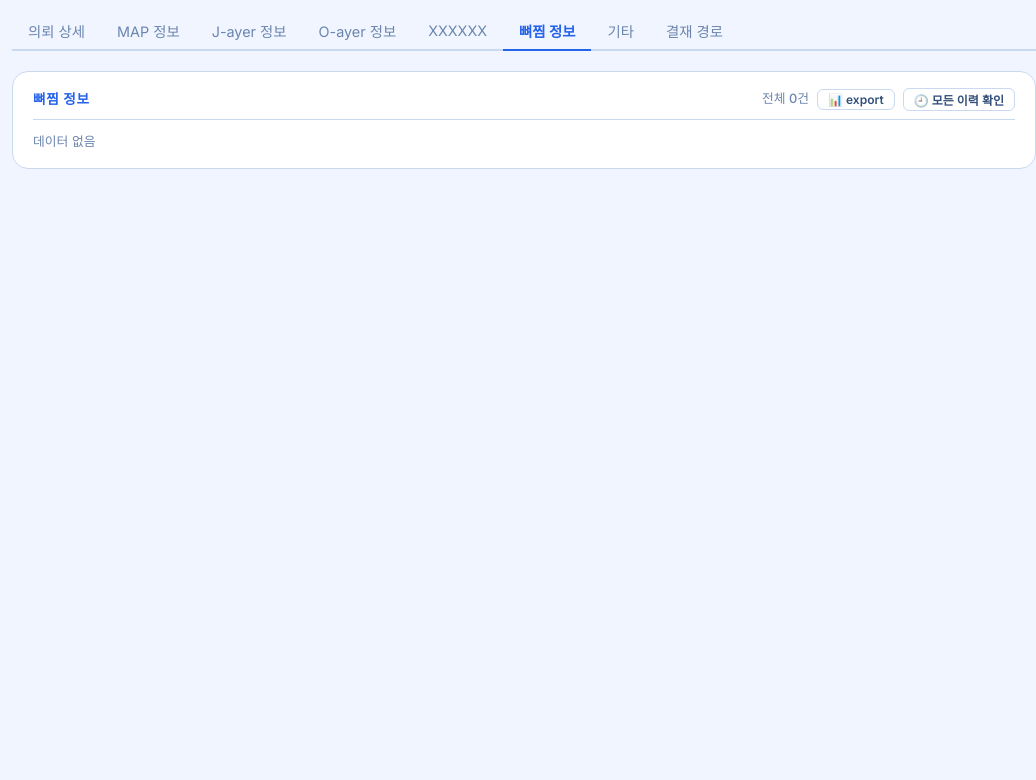
Test: 모든 이력 확인 — 구간별 변경 › 기타 탭은 비교할 항목이 없어 구간마다 "변경 없음"이다
Click the button "🕘 모든 이력 확인": (959, 100) [903,88,1015,111]
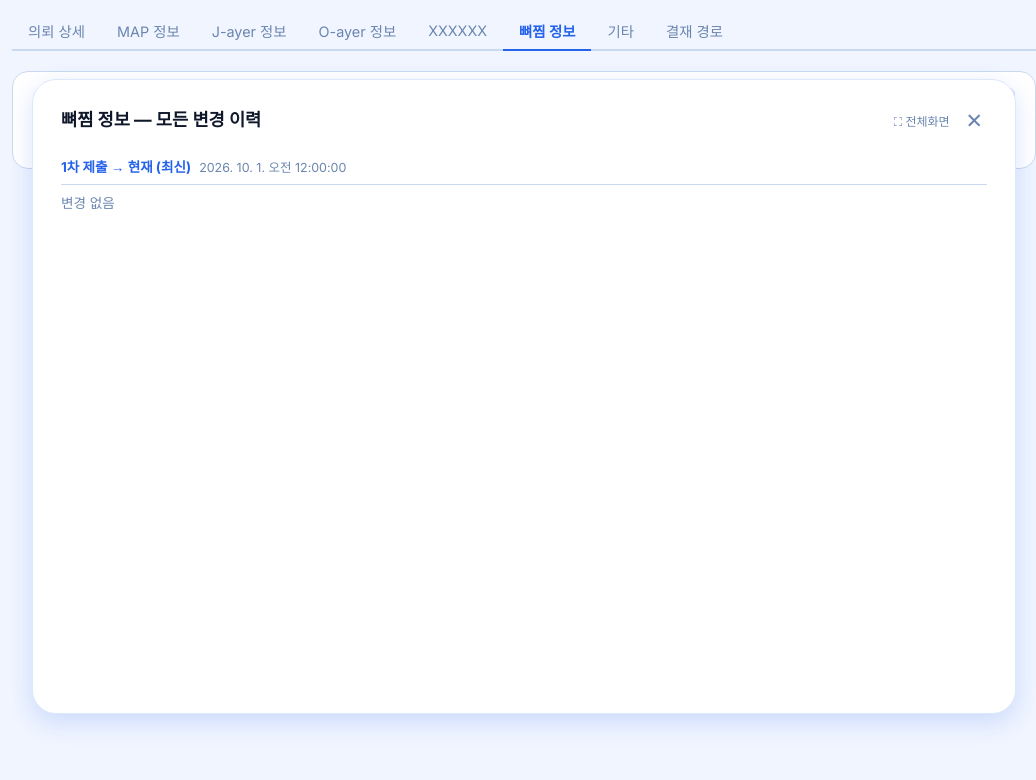
Result: the text "변경 없음" is shown once at [61,195,115,211]
